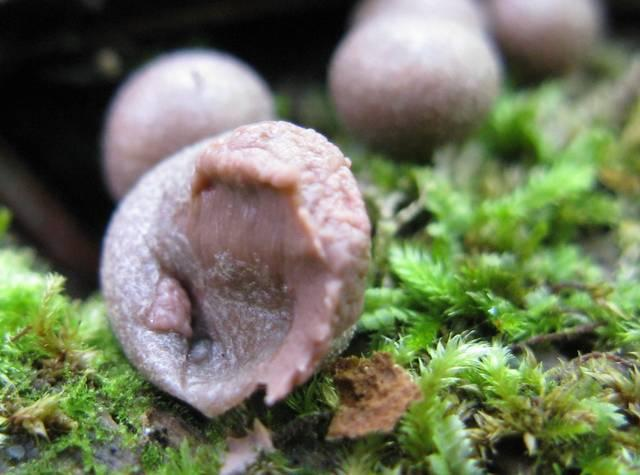Non-edible Mushroom: (97, 118, 373, 419), (327, 0, 502, 161), (99, 46, 276, 201), (486, 0, 603, 80)
